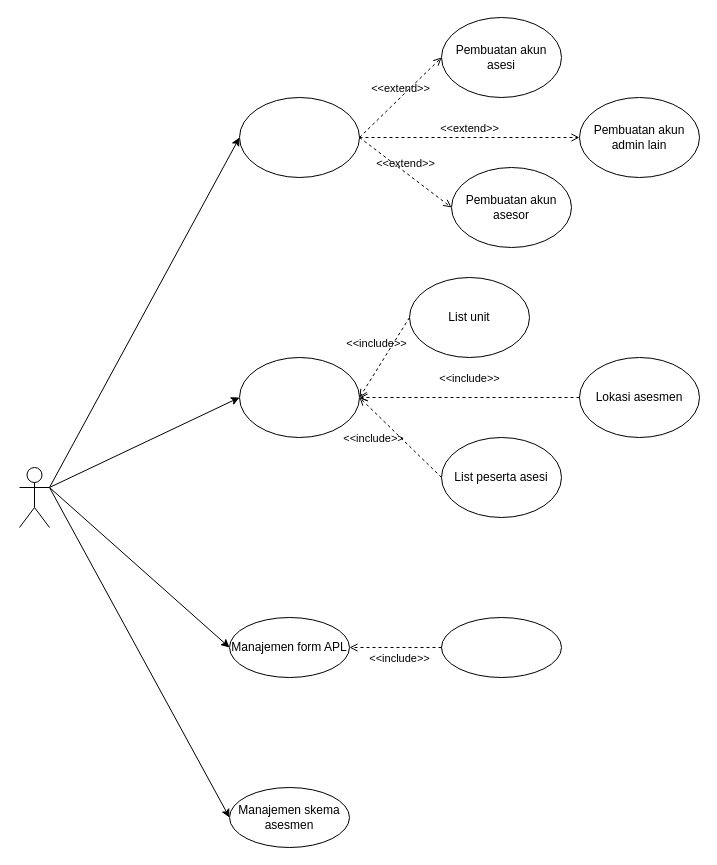
This 717x865 diagram has some shape labels left out. Here are the shapes that lost their labels. From the top down, the centre of each, then its label:
point 299,137: Membuat akun
point 299,397: Manajemen surat tugas
point 34,497: Admin
point 501,647: Verifikasi form APL-01 dan APL-01
